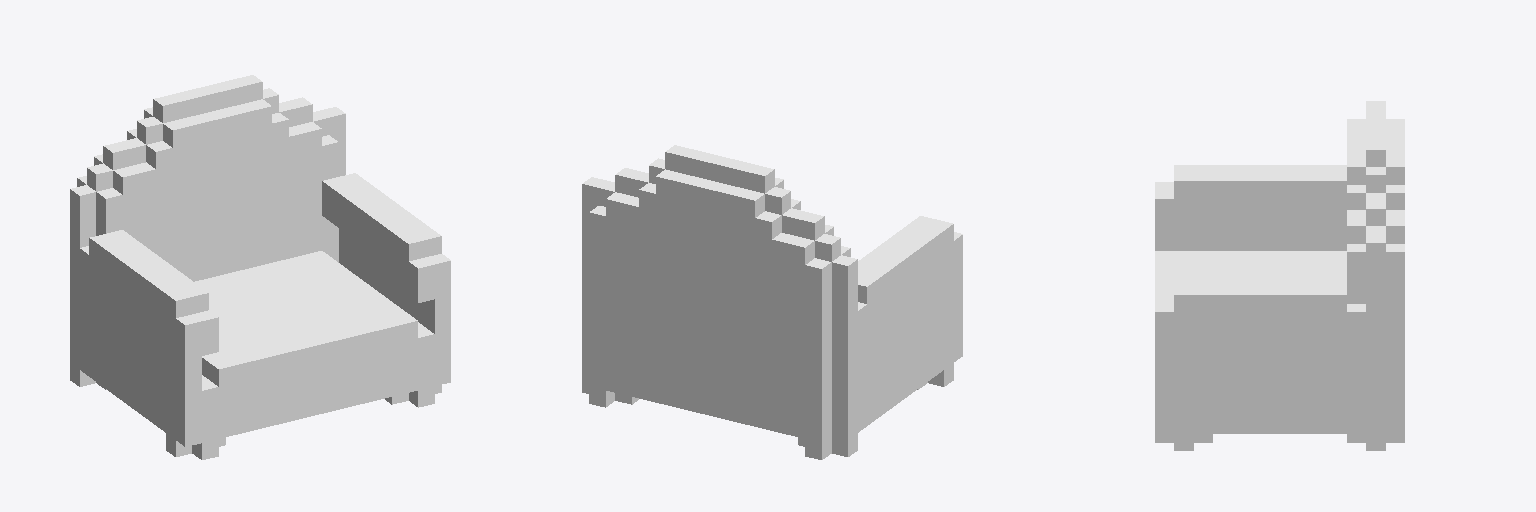
The model's file is Interior_Furniture_Chair_12.obj.
3 views of the same model, side by side, from view 1: azimuth 30°, elevation 25°; view 2: azimuth 150°, elevation 25°; view 3: azimuth 270°, elevation 25° (orthographic).
Visible parts, largest first — view 1: object 1; view 2: object 1; view 3: object 1.
Part boxes in pixels (bbox=[...]): object 1: bbox=[70, 75, 450, 459]; object 1: bbox=[582, 145, 962, 459]; object 1: bbox=[1155, 101, 1404, 450].
Size of the model in its own units: 1.6 by 1.5 by 1.3.